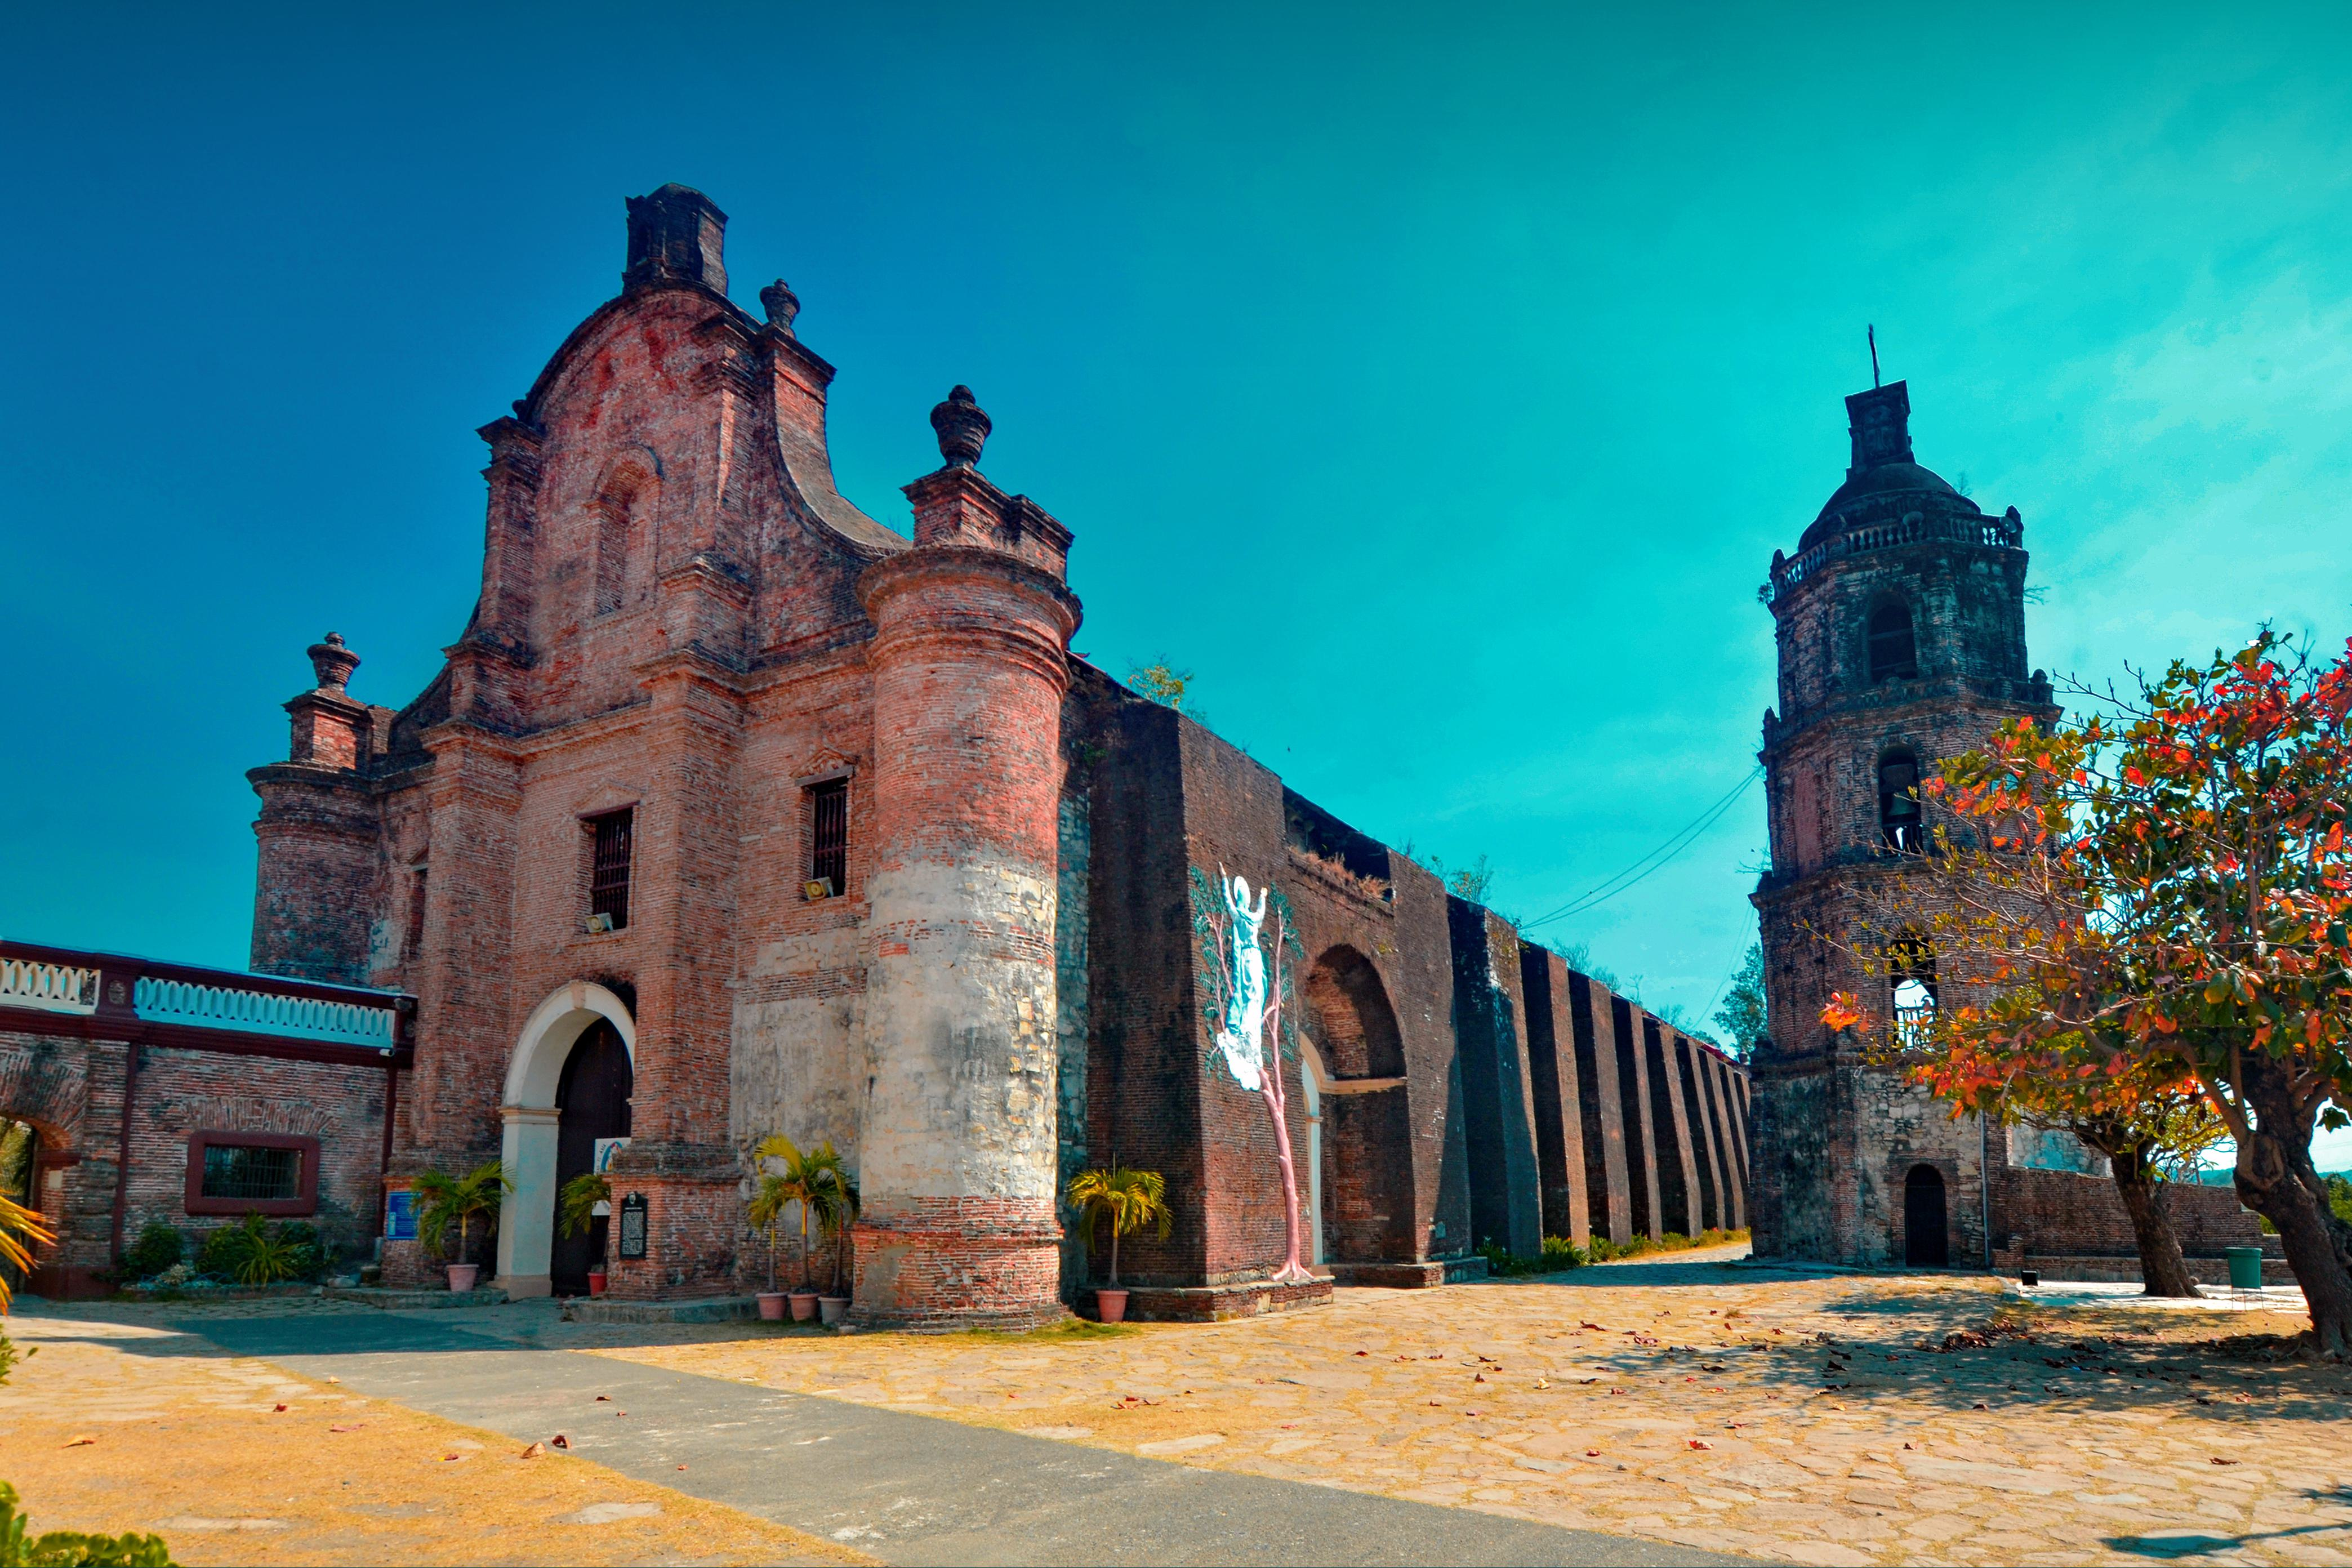Environmental Damage: (1129, 649, 1202, 740)
Sta. Maria Church: (252, 175, 1078, 1330)
Unfinished Paint: (747, 864, 1057, 1204)
